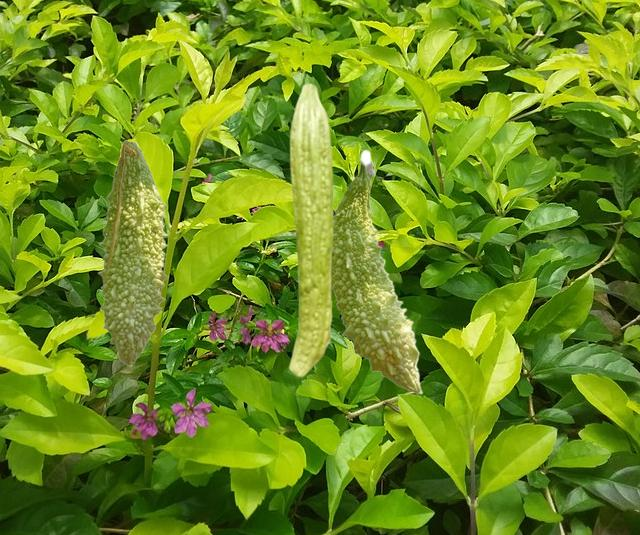ampalaya: (333, 149, 423, 395), (95, 139, 170, 367), (288, 81, 335, 379)
